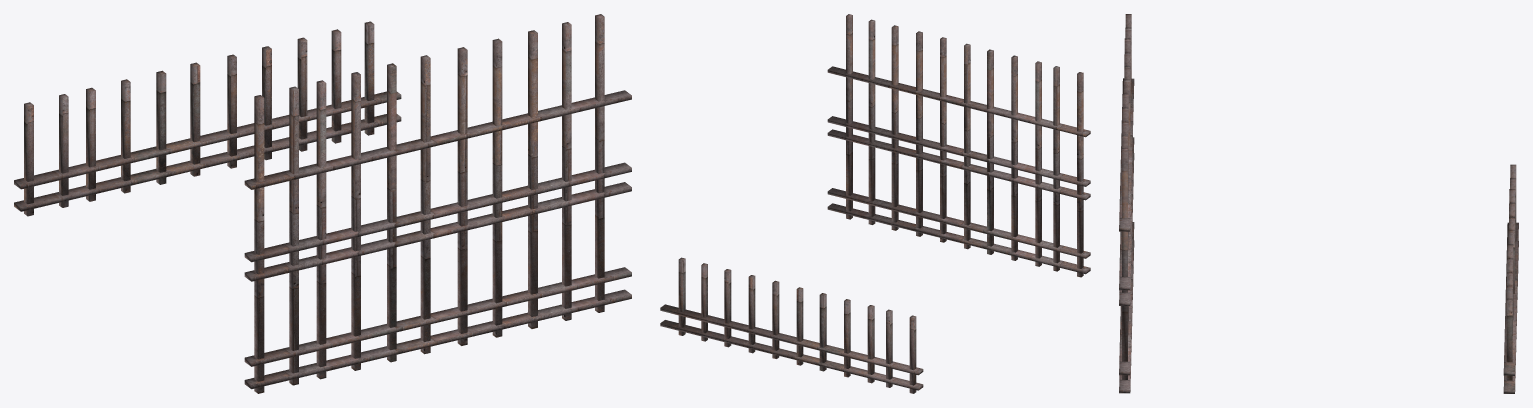
The model's file is SM_Scaffoldingue_Metal_00.fbx.
The picture shows the model from 3 angles, left to right: view 1: azimuth 30°, elevation 25°; view 2: azimuth 150°, elevation 25°; view 3: azimuth 270°, elevation 25°; orthographic projection. The views are drawn at different scales.
Visible parts, largest first — view 1: SM_Scaffoldingue_Metal_00; view 2: SM_Scaffoldingue_Metal_00; view 3: SM_Scaffoldingue_Metal_00.
Part boxes in pixels (x1=…): SM_Scaffoldingue_Metal_00: x1=14, y1=14, x2=631, y2=393; SM_Scaffoldingue_Metal_00: x1=660, y1=14, x2=1090, y2=393; SM_Scaffoldingue_Metal_00: x1=1119, y1=14, x2=1518, y2=393.
Bounding box in the file's own units: 1369 × 1003 × 1519.
